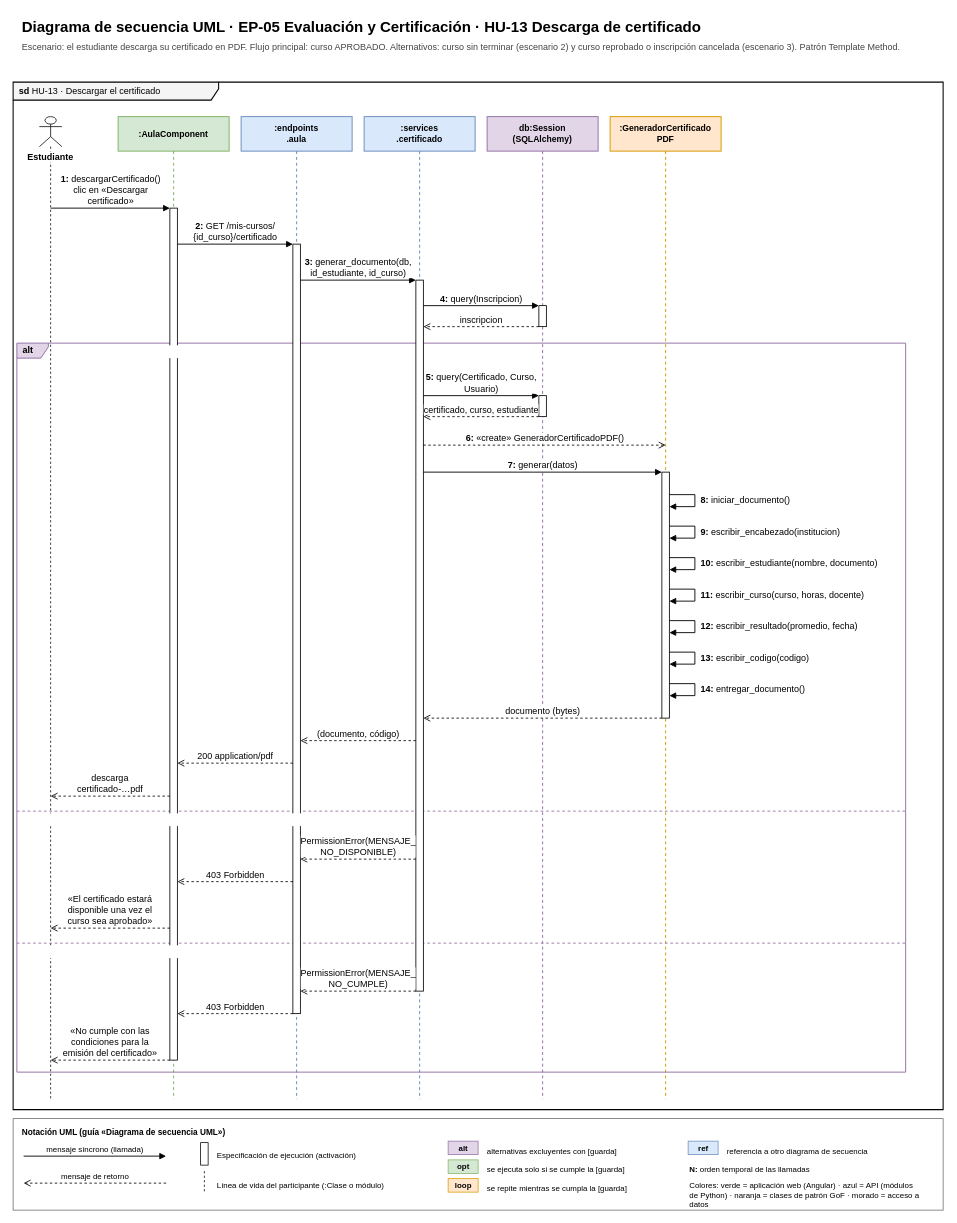
The diagram is 957 pixels wide and 1223 high, and some of its shapes have lost their labels. The box of each missing label's shape, as (x1, y1, x2, y2) in pixels:
[inscripción APROBADA con certificado emitido]: (52, 345, 289, 358)
[inscripción PENDIENTE o ACTIVA: el curso no ha terminado]: (22, 813, 318, 826)
[inscripción REPROBADA o CANCELADA]: (22, 945, 205, 958)
